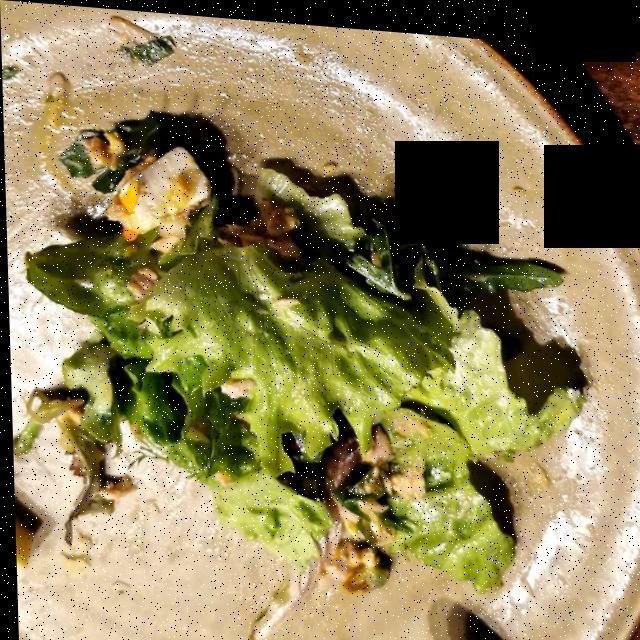egg: (106, 140, 219, 231)
salad-leaf-salad-green: (13, 131, 621, 587)
tuna-in-oil-drained: (345, 422, 425, 504)
